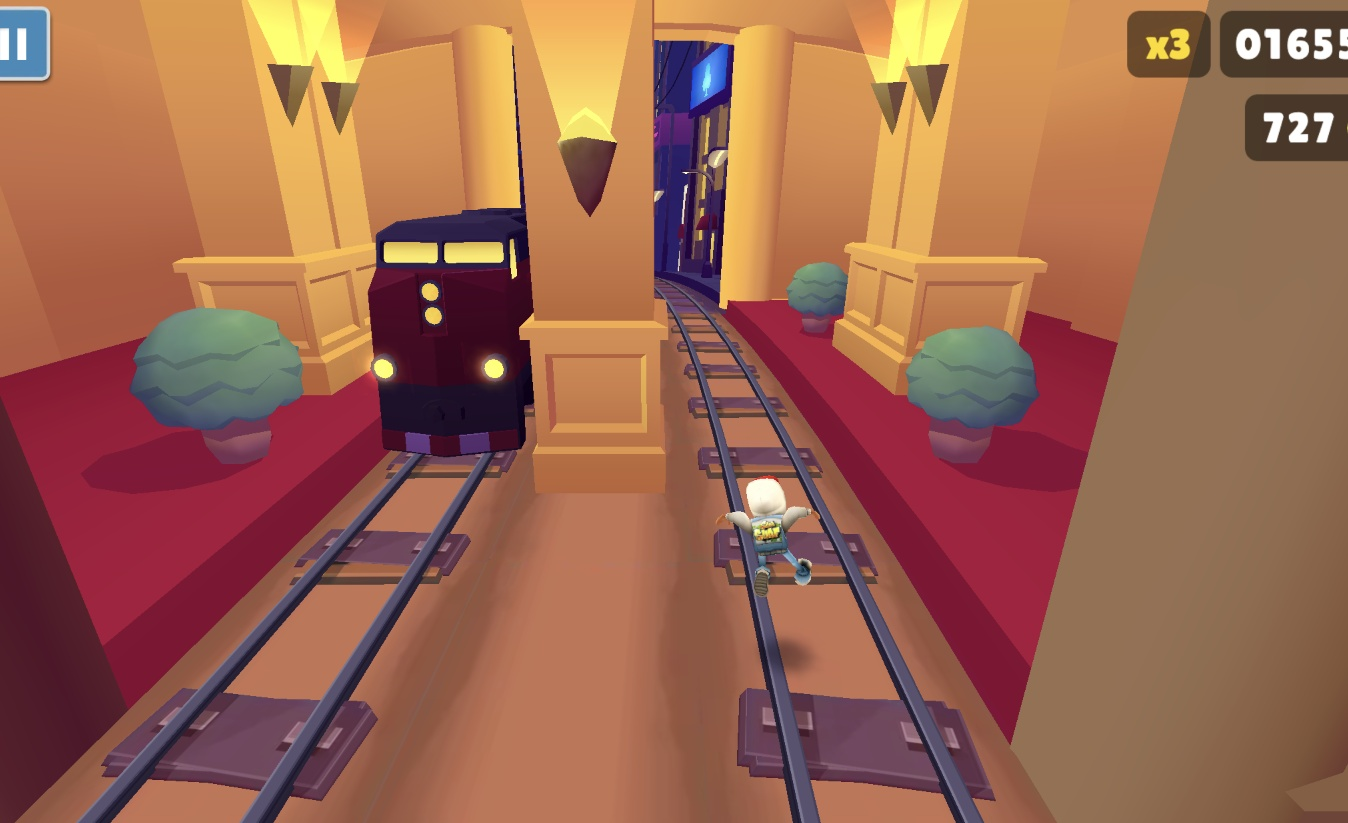pillar: (546, 0, 758, 603)
train: (361, 220, 546, 450)
